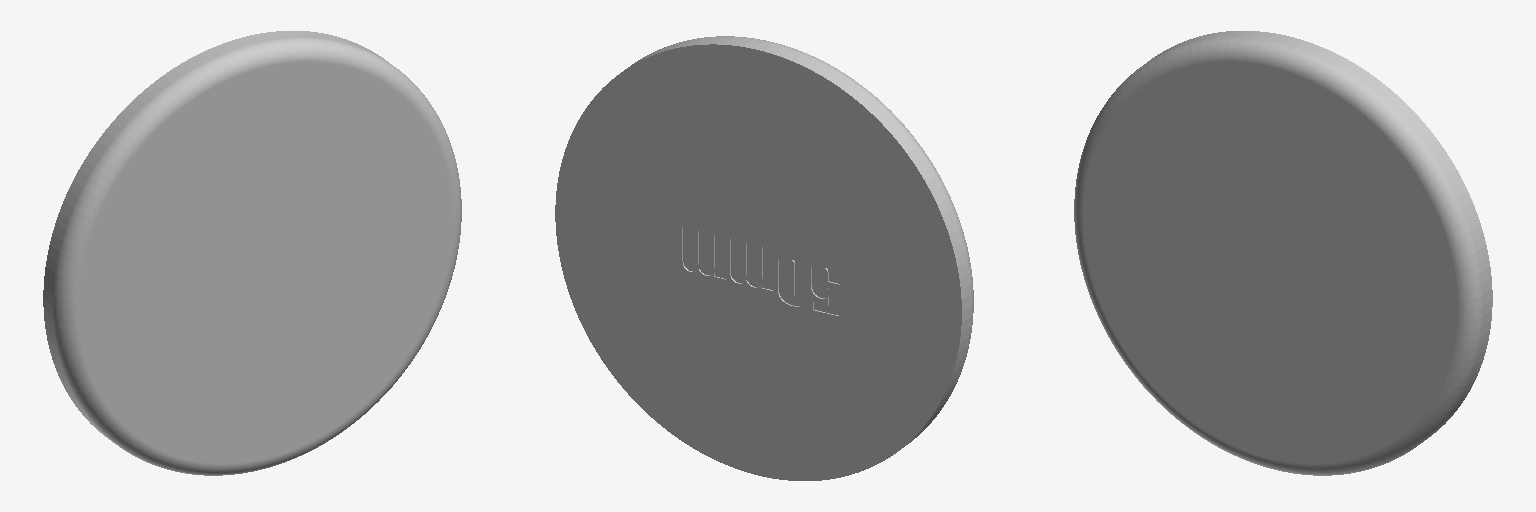
The picture shows the model from 3 angles: view 1: azimuth 30°, elevation 25°; view 2: azimuth 150°, elevation 25°; view 3: azimuth 330°, elevation 25°; orthographic projection.
Visible parts, largest first — view 1: base_50; view 2: base_50; view 3: base_50.
Part boxes in pixels (bbox=[...]): base_50: bbox=[43, 31, 461, 475]; base_50: bbox=[555, 36, 973, 480]; base_50: bbox=[1074, 31, 1492, 475].
Bounding box in the file's own units: 50 × 49.98 × 4.